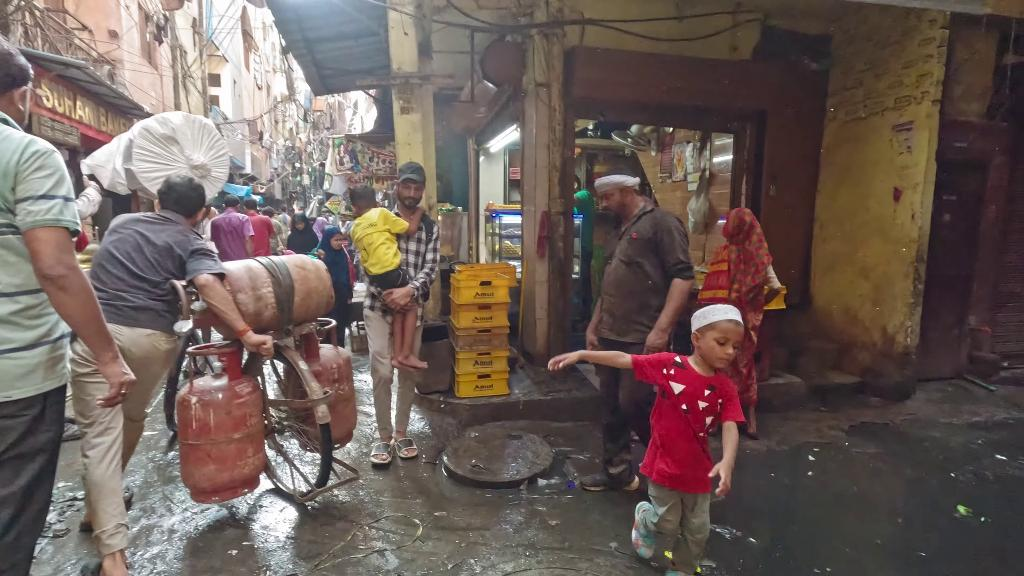garbage: (687, 174, 709, 237), (536, 477, 562, 488)
